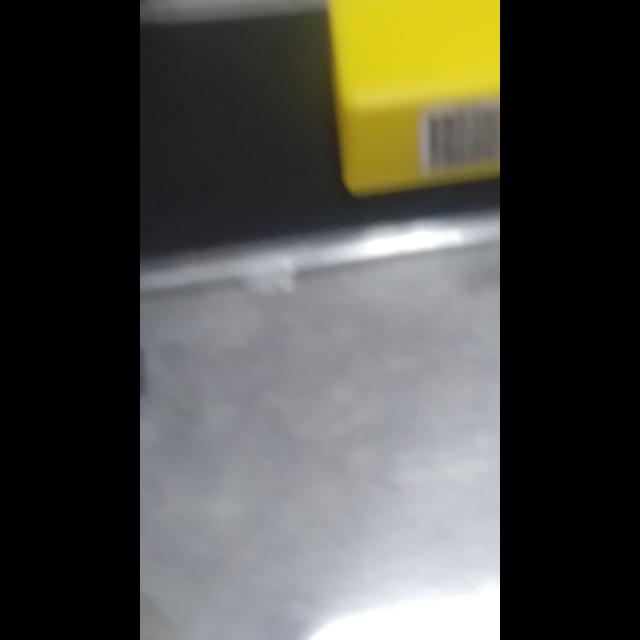yellowBox: (308, 0, 500, 222)
